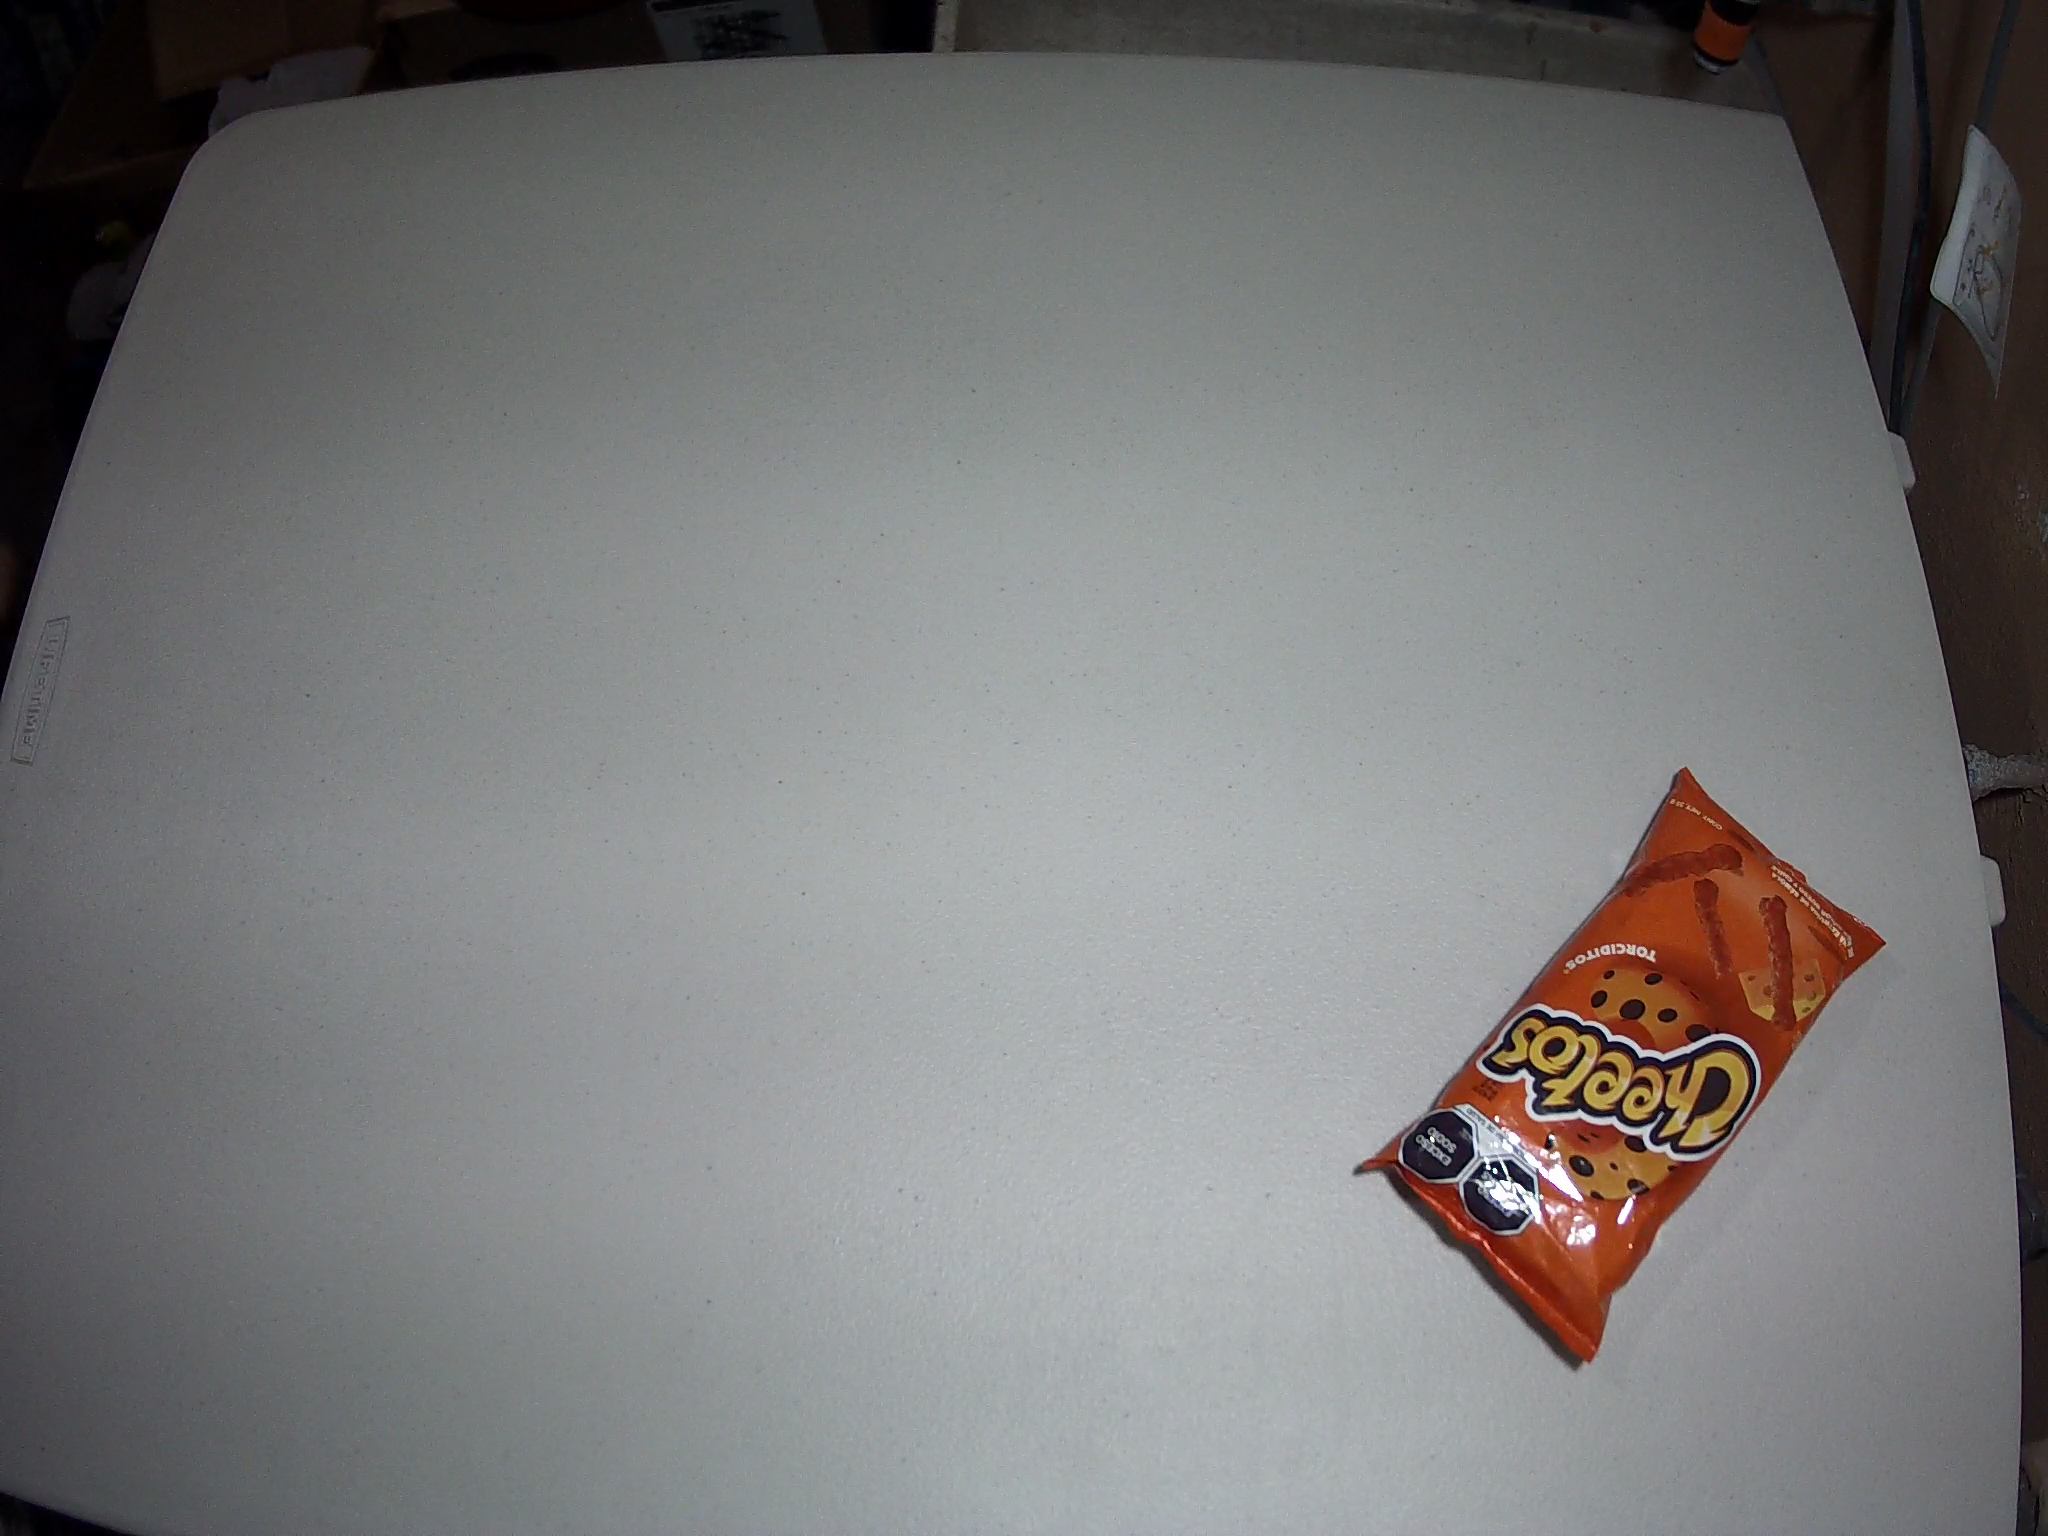CheetosTorciditos_55_F: (1359, 766, 1887, 1367)
